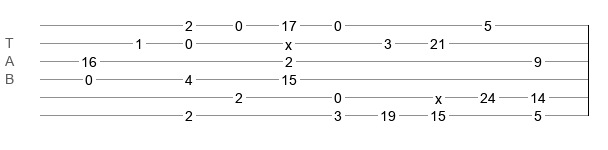0: (85, 72, 93, 82), (185, 36, 193, 46), (235, 18, 243, 28), (334, 18, 342, 28), (334, 90, 342, 100)
1: (135, 36, 143, 46)
14: (530, 90, 546, 100)
15: (281, 72, 297, 82), (430, 108, 446, 118)
16: (81, 54, 97, 64)
17: (281, 18, 297, 28)
19: (380, 108, 396, 118)
2: (185, 18, 193, 28), (185, 108, 193, 118), (235, 90, 243, 100), (285, 54, 293, 64)
21: (430, 36, 446, 46)
24: (480, 90, 496, 100)
3: (334, 108, 342, 118), (384, 36, 392, 46)
4: (185, 72, 193, 82)
5: (484, 18, 492, 28), (534, 108, 542, 118)
9: (534, 54, 542, 64)
x: (285, 37, 292, 45), (435, 91, 442, 99)
